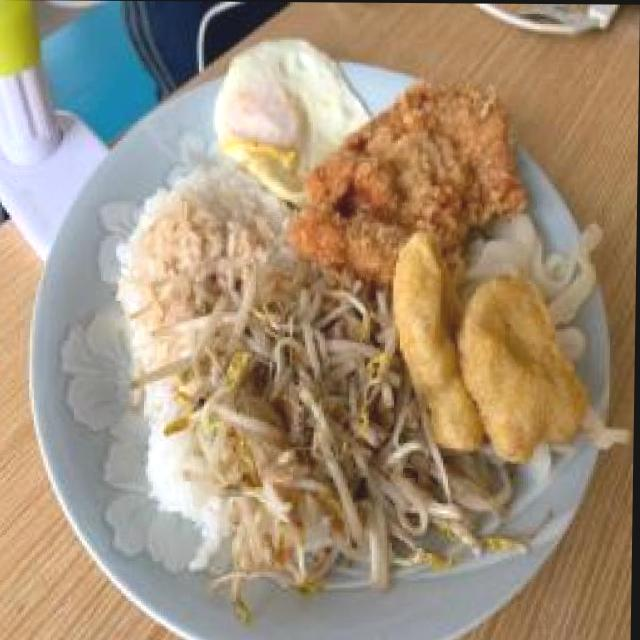chicken_nuggets: (395, 237, 585, 461)
fried_chicken: (305, 82, 517, 273)
fried_eggs: (213, 34, 350, 188)
mung_bean_sprouts: (211, 284, 398, 575)
rice: (139, 178, 286, 307)
